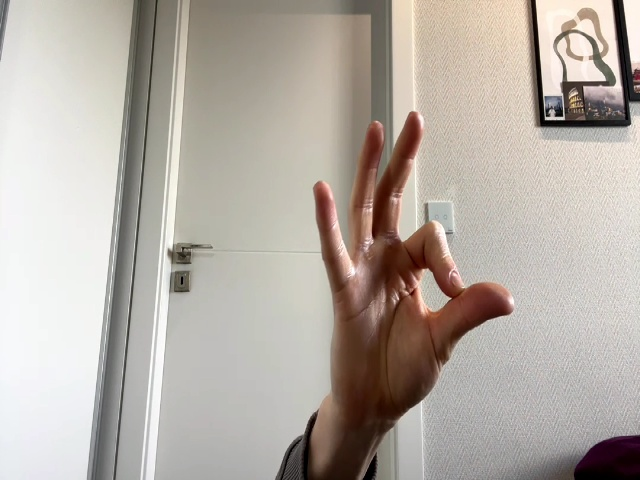S: (312, 111, 516, 410)
